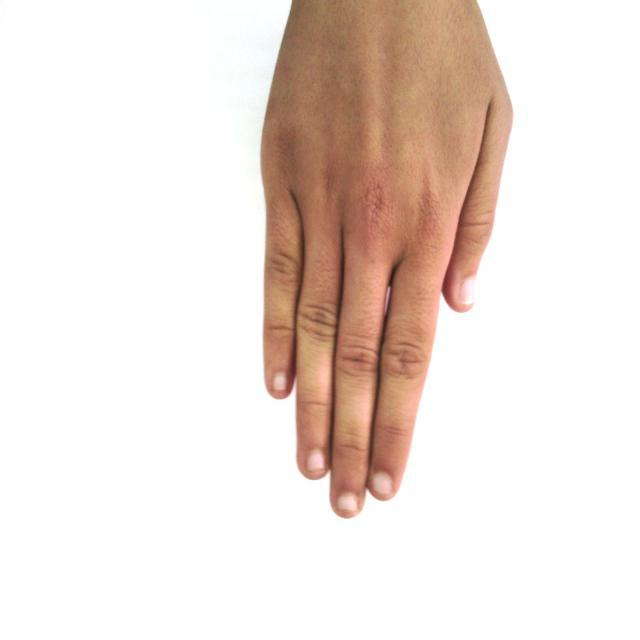Fingernail: (370, 472, 393, 497), (460, 278, 476, 307), (337, 494, 359, 515), (307, 451, 325, 472), (273, 373, 288, 393)
